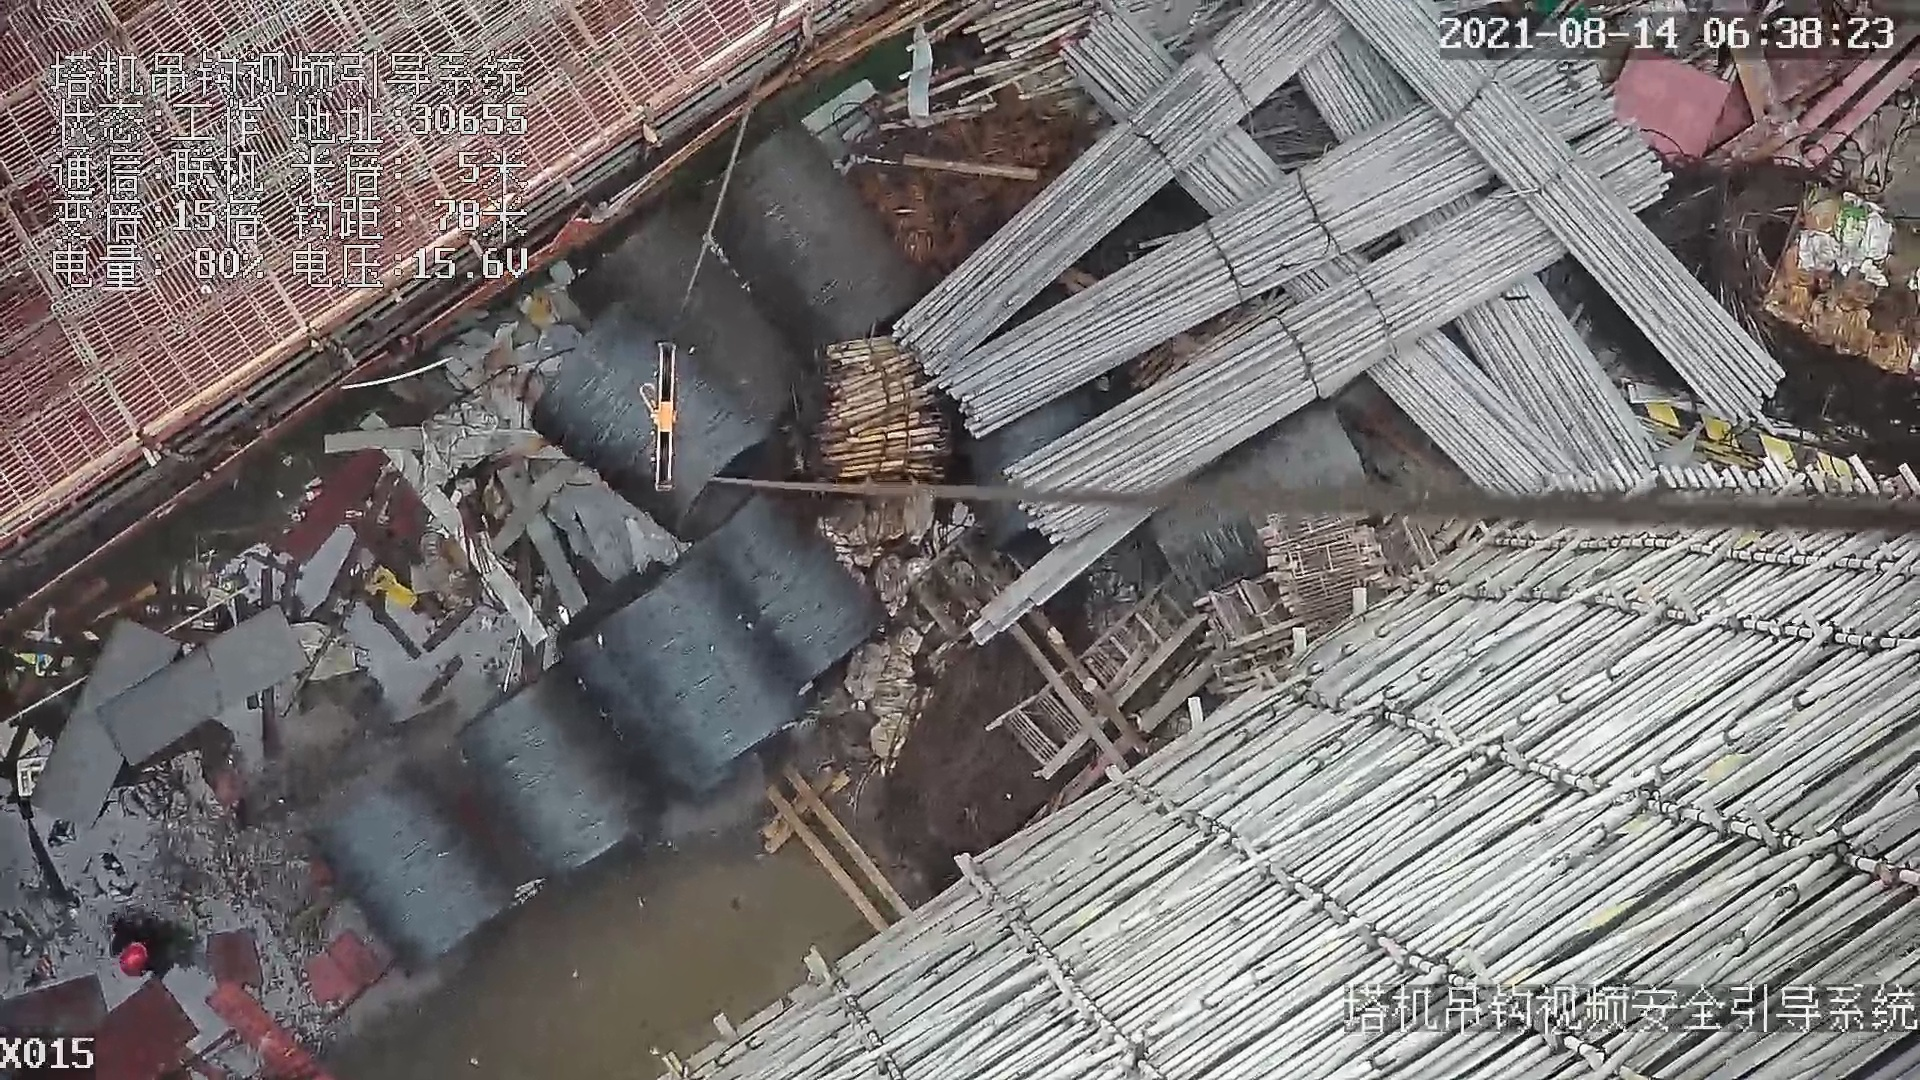helmet: (104, 936, 159, 981)
hook: (637, 337, 682, 497)
person: (99, 905, 199, 986)
